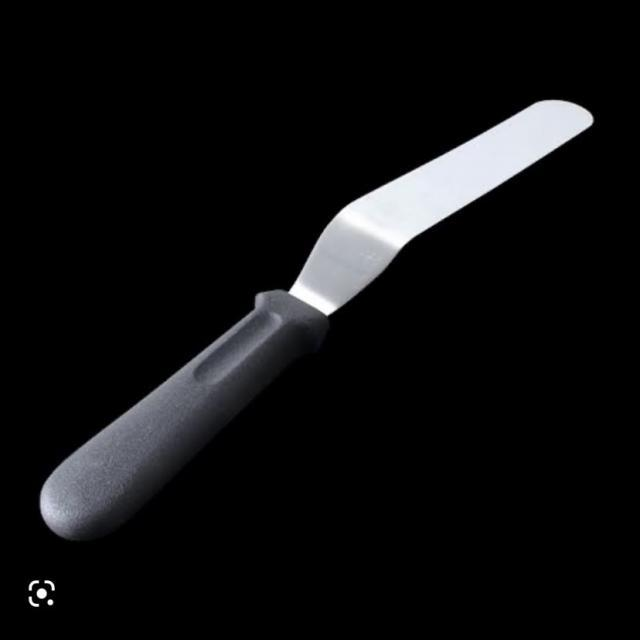Knife: (25, 43, 626, 587)
